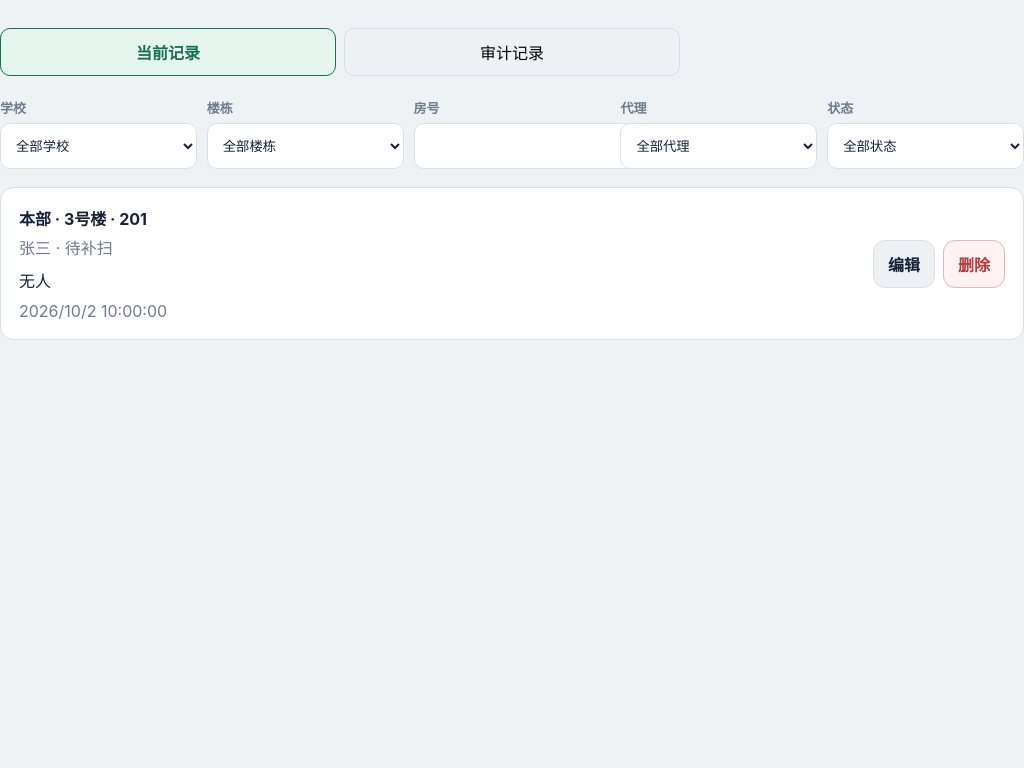
Test: SweepDataManager › preserves a stale edit until the administrator explicitly refreshes
Click the button with aria-label "编辑 201" at [904, 264], box x1=873 y1=240 x2=935 y2=288
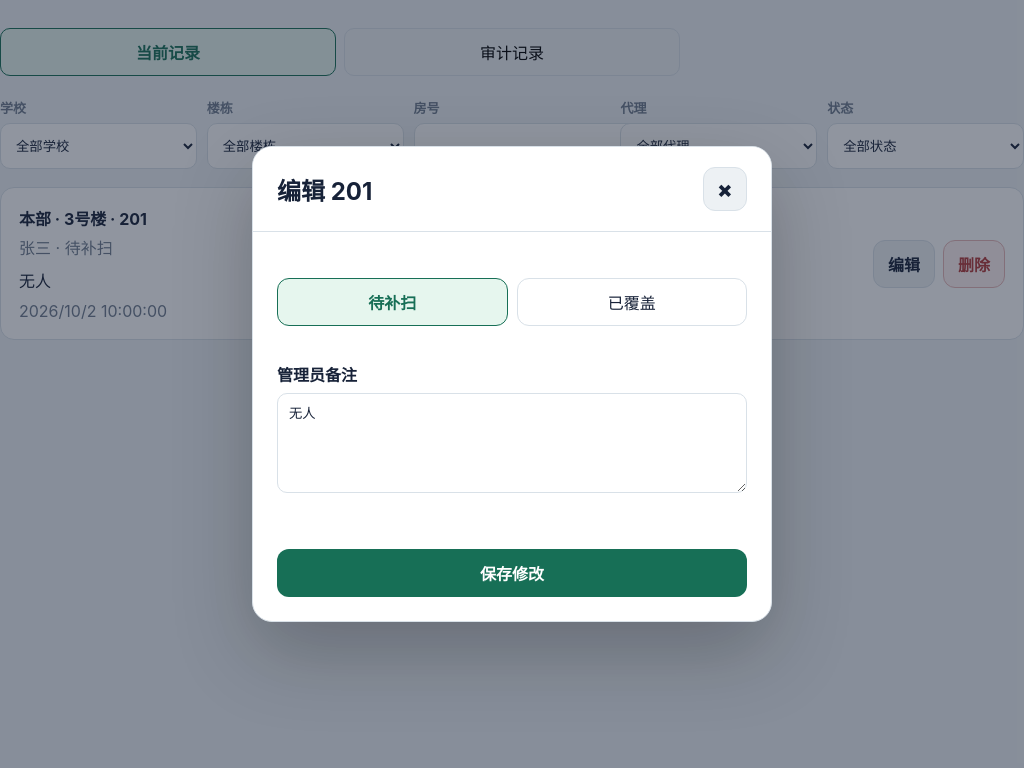
Replace the text in the text box labelled "管理员备注" with "我的纠错草稿" at [512, 443], box x1=277 y1=393 x2=747 y2=493
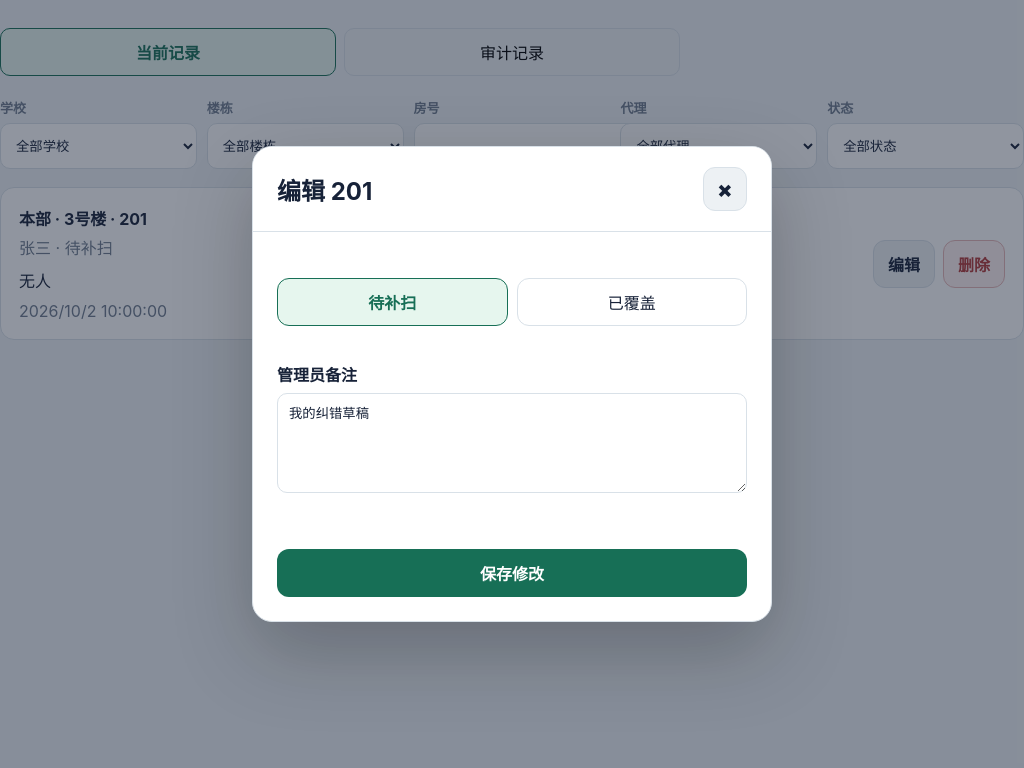
Click the button "保存修改" at [512, 573], box x1=277 y1=549 x2=747 y2=597
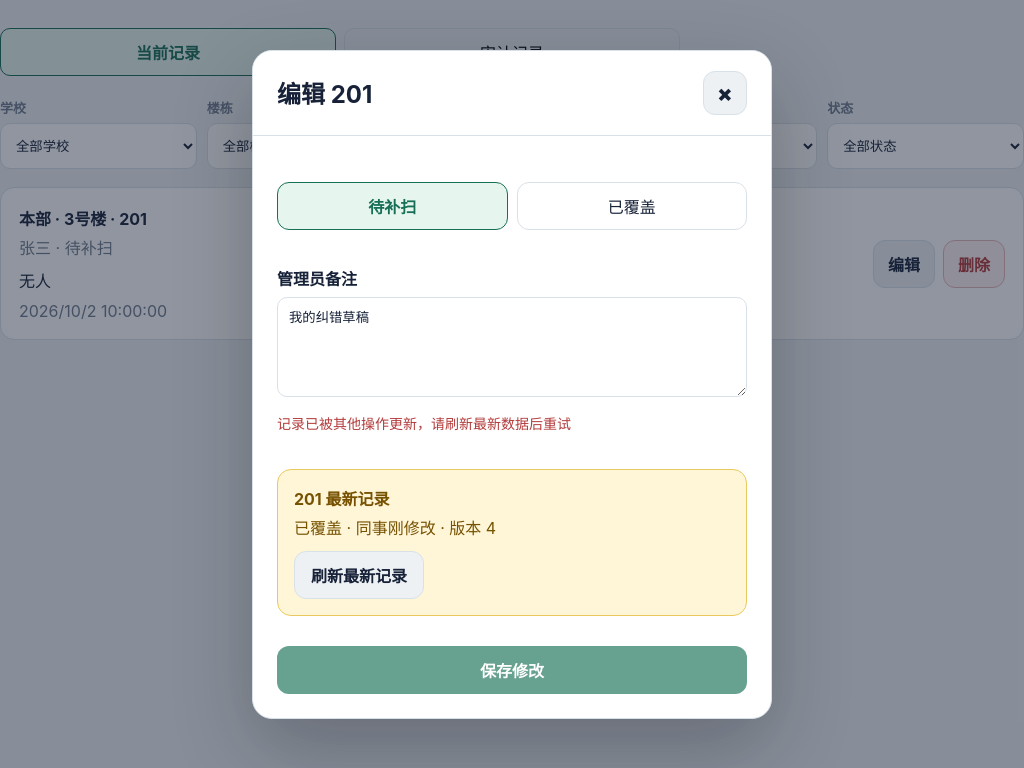
Expected: the text "记录已被其他操作更新，请刷新最新数据后重试" is shown, x1=277 y1=414 x2=571 y2=432
Expected: the text "已覆盖 · 同事刚修改 · 版本 4" is shown, x1=294 y1=518 x2=496 y2=538
Click the button "刷新最新记录" at [359, 574], box x1=294 y1=550 x2=424 y2=598
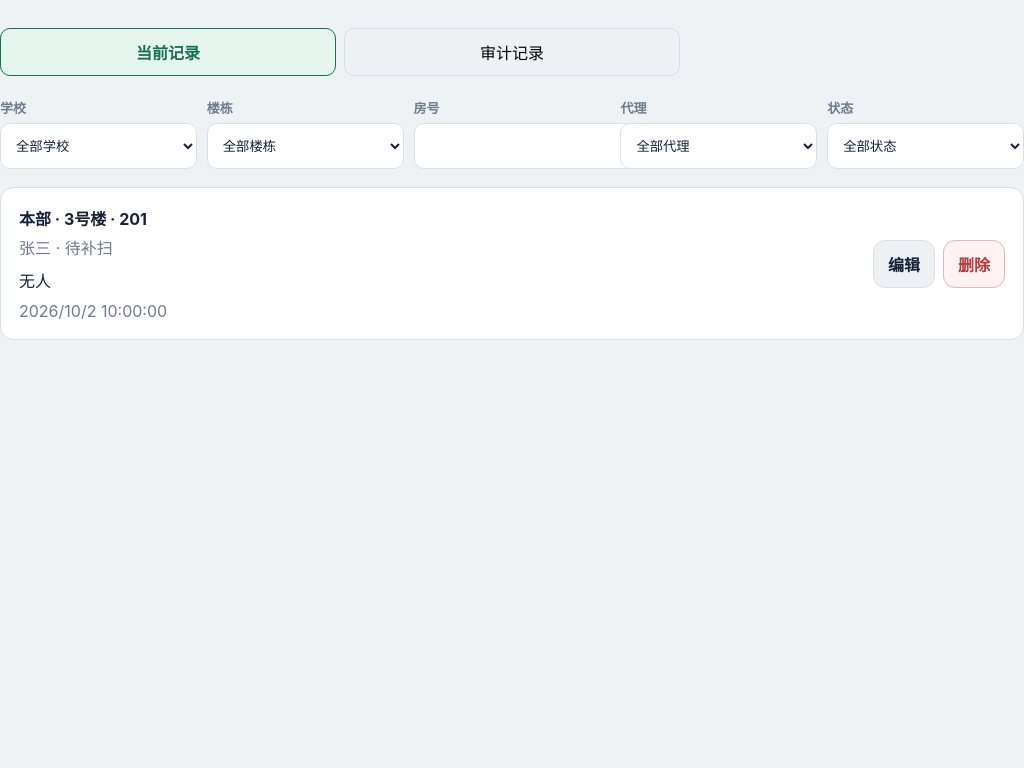
Expected: the dialog "编辑扫楼记录" is gone
